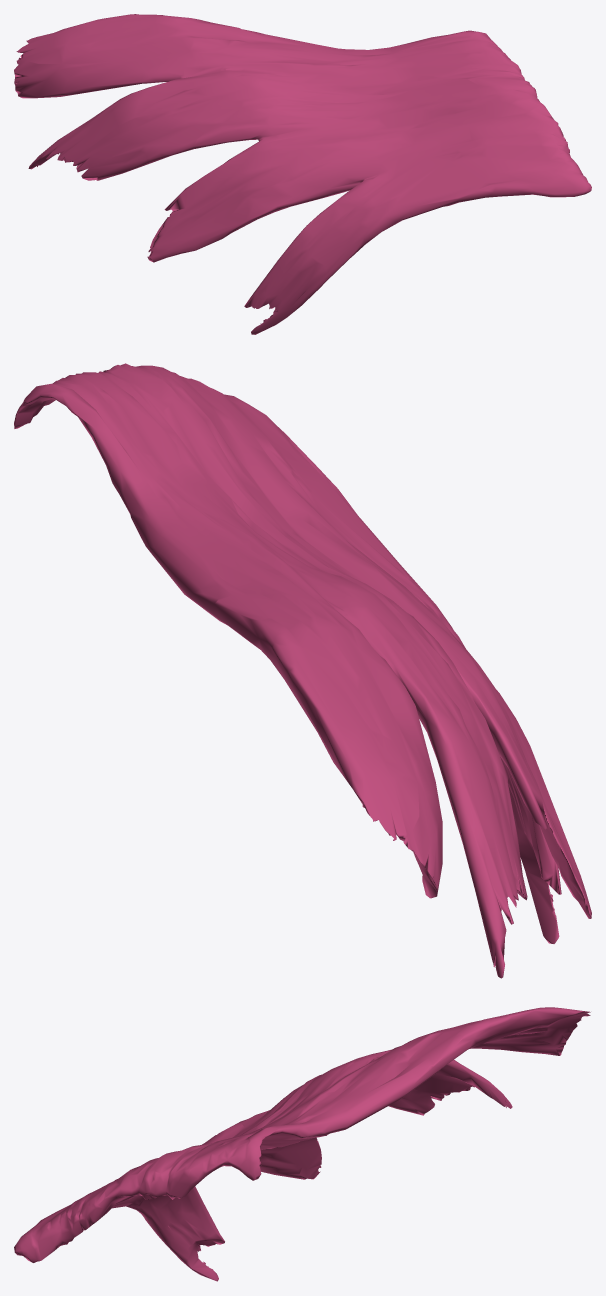
3 renders of one model, top to bottom at view 1: azimuth 30°, elevation 25°; view 2: azimuth 150°, elevation 25°; view 3: azimuth 270°, elevation 25°, orthographic. The views are drawn at different scales.
Parts seen in each view (by area): view 1: 右侧上后锯肌; view 2: 右侧上后锯肌; view 3: 右侧上后锯肌.
Boxes of the visible parts, <box> form: 右侧上后锯肌: <box>14,14,591,334</box>; 右侧上后锯肌: <box>14,363,591,978</box>; 右侧上后锯肌: <box>14,1007,590,1281</box>.
Bounding box in the file's own units: 0.1554 × 0.0978 × 0.1853.
